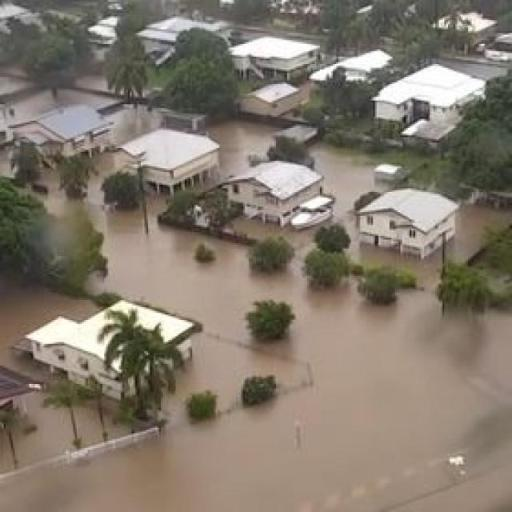flood: (0, 200, 512, 512), (0, 276, 99, 474), (177, 333, 311, 410), (0, 86, 115, 141), (37, 154, 116, 234), (312, 142, 391, 216), (206, 118, 282, 178), (102, 103, 206, 146), (445, 205, 512, 265), (73, 398, 148, 448), (232, 217, 289, 240), (0, 76, 33, 97), (76, 75, 107, 90), (0, 146, 13, 178)
house: (8, 300, 193, 400), (376, 67, 490, 142), (360, 188, 462, 265), (12, 90, 110, 168), (132, 129, 224, 207), (242, 159, 328, 231), (243, 78, 297, 118)
